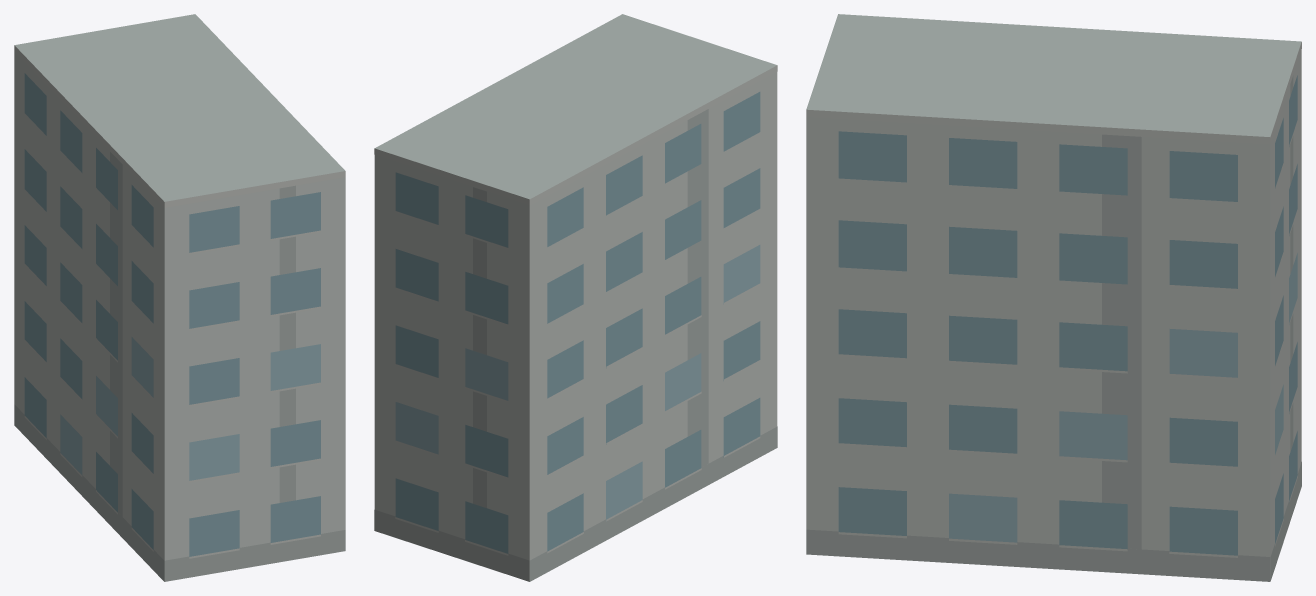
The model's file is survey-upis-32914602.glb.
3 views of the same model, side by side, from view 1: azimuth 30°, elevation 25°; view 2: azimuth 150°, elevation 25°; view 3: azimuth 270°, elevation 25° (orthographic). The views are drawn at different scales.
Parts seen in each view (by area): view 1: survey-upis-32914602.tmp; view 2: survey-upis-32914602.tmp; view 3: survey-upis-32914602.tmp.
Part boxes in pixels (left/top/right/bottom): survey-upis-32914602.tmp: left=14, top=14, right=345, bottom=581; survey-upis-32914602.tmp: left=374, top=14, right=777, bottom=581; survey-upis-32914602.tmp: left=806, top=14, right=1301, bottom=581.
Size of the model in its own units: 8.8 by 14.8 by 14.96.
